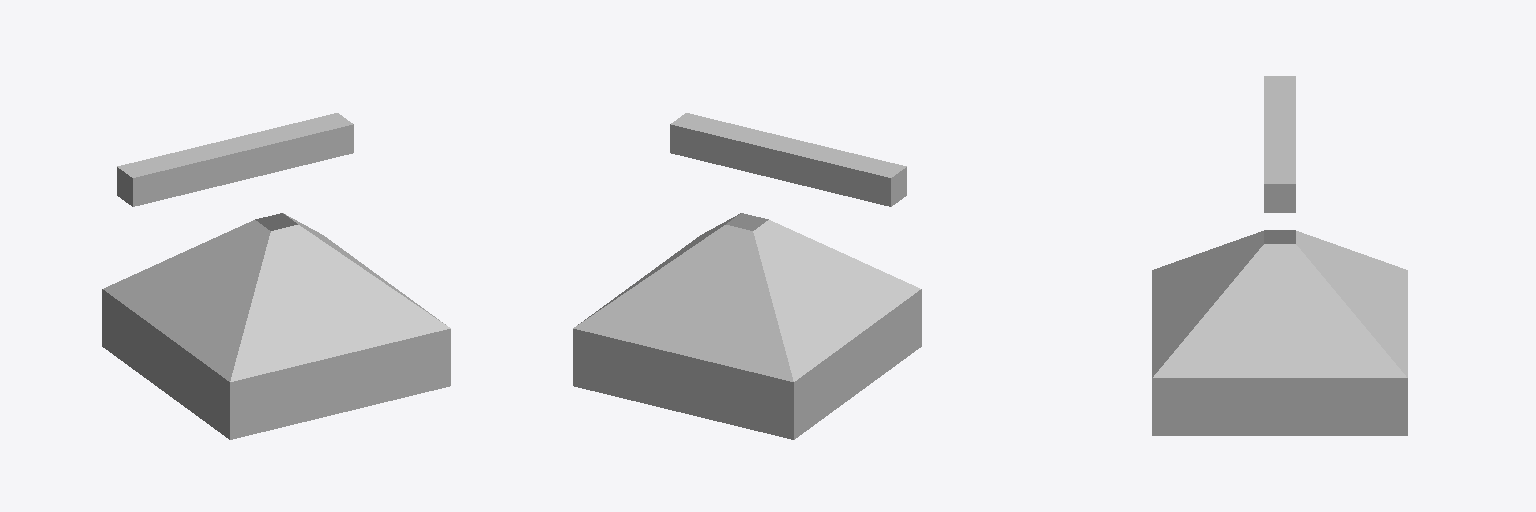
The model's file is bot1.obj.
3 views of the same model, side by side, from view 1: azimuth 30°, elevation 25°; view 2: azimuth 150°, elevation 25°; view 3: azimuth 270°, elevation 25° (orthographic).
Parts seen in each view (by area): view 1: base, turretArm; view 2: base, turretArm; view 3: base, turretArm, turret.
Part boxes in pixels (left/top/right/bottom): base: left=102, top=213, right=450, bottom=439; turretArm: left=117, top=113, right=353, bottom=206; base: left=573, top=213, right=921, bottom=439; turretArm: left=670, top=113, right=906, bottom=206; base: left=1152, top=230, right=1407, bottom=435; turretArm: left=1264, top=76, right=1295, bottom=183; turret: left=1264, top=184, right=1295, bottom=212.
Bounding box in the file's own units: 76 × 64 × 64.